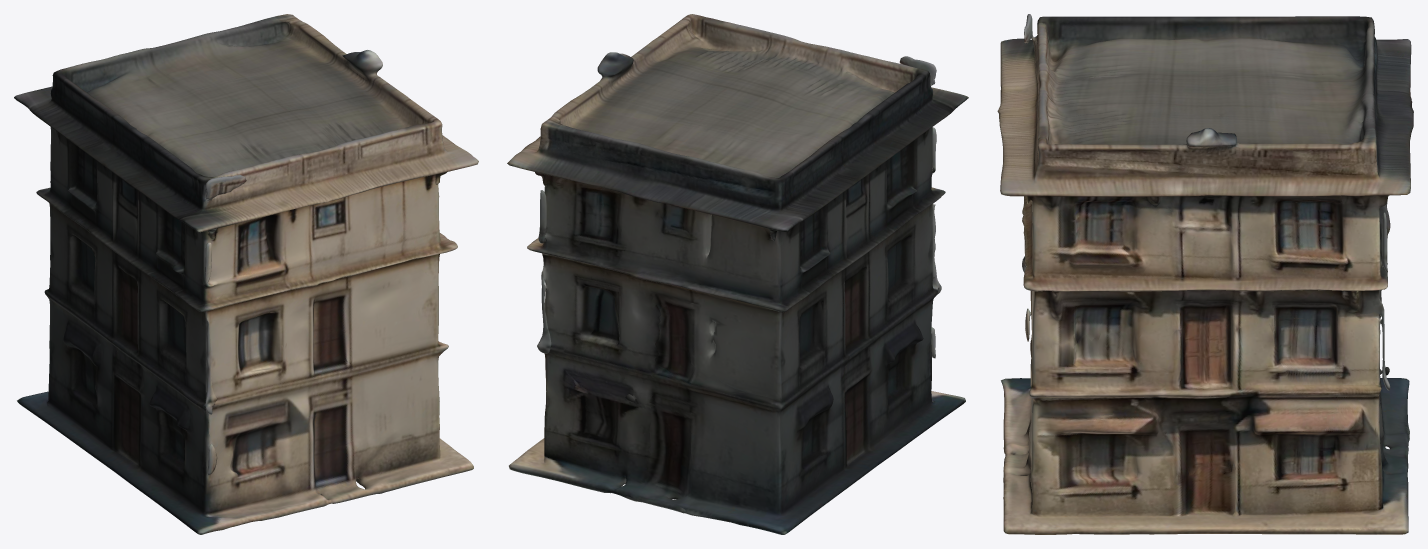
Rendered from indian_apartment.glb.
3 views of the same model, side by side, from view 1: azimuth 30°, elevation 25°; view 2: azimuth 150°, elevation 25°; view 3: azimuth 270°, elevation 25° (orthographic). The views are drawn at different scales.
Visible parts, largest first — view 1: tripo_node_cdad9e08-4065-4cbe-931d-1f091f0d0d88; view 2: tripo_node_cdad9e08-4065-4cbe-931d-1f091f0d0d88; view 3: tripo_node_cdad9e08-4065-4cbe-931d-1f091f0d0d88.
Boxes of the visible parts, bbox=[...] form: tripo_node_cdad9e08-4065-4cbe-931d-1f091f0d0d88: bbox=[14, 14, 478, 534]; tripo_node_cdad9e08-4065-4cbe-931d-1f091f0d0d88: bbox=[507, 14, 968, 534]; tripo_node_cdad9e08-4065-4cbe-931d-1f091f0d0d88: bbox=[997, 14, 1413, 534].
Size of the model in its own units: 0.5586 by 0.6666 by 0.6317.
1 material, 1 textured.
